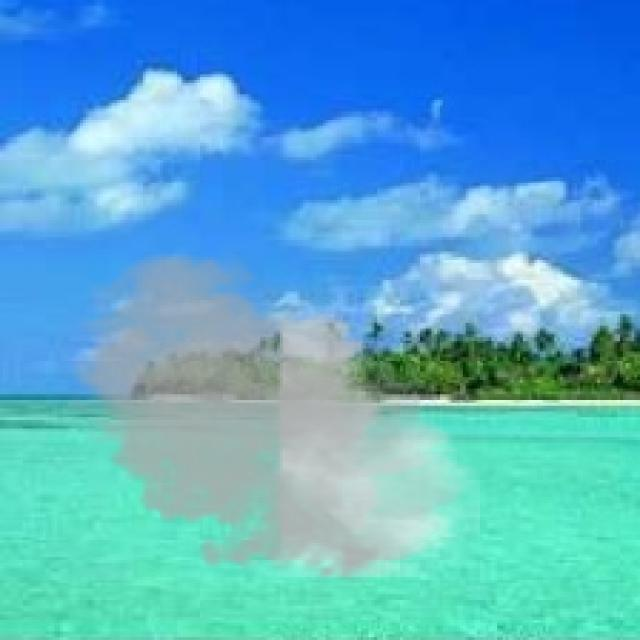smoke: (57, 246, 480, 591)
